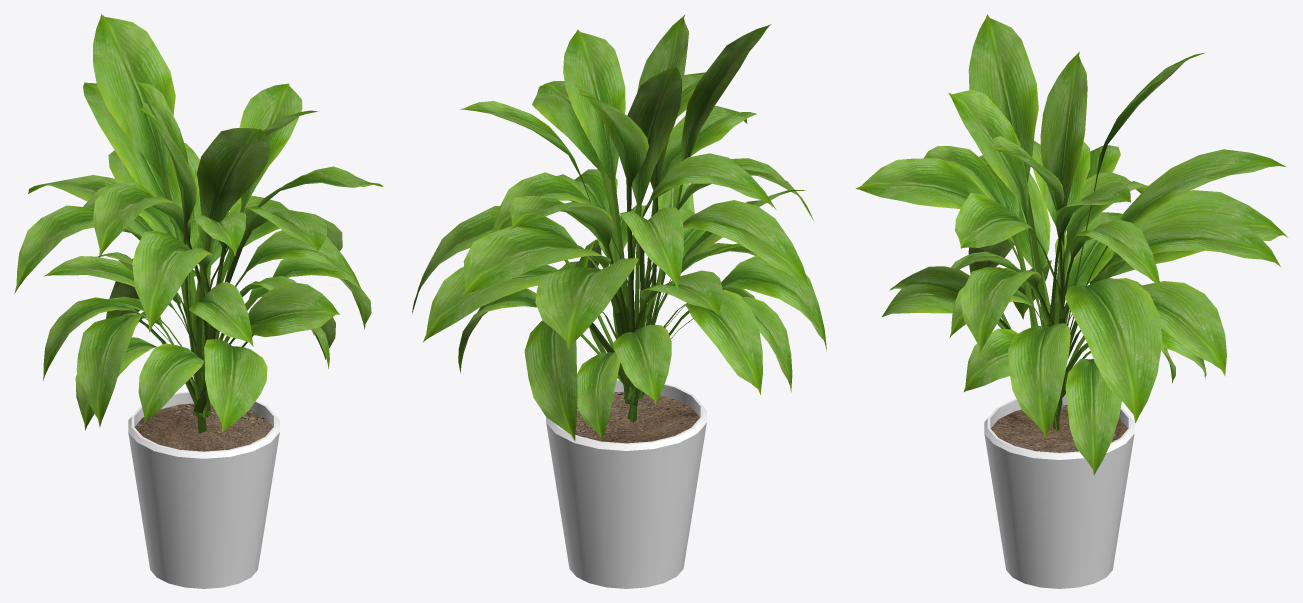
File: Plant 1.fbx
3 renders of one model, left to right at view 1: azimuth 30°, elevation 25°; view 2: azimuth 150°, elevation 25°; view 3: azimuth 270°, elevation 25°, orthographic. The views are drawn at different scales.
Visible parts, largest first — view 1: plant 1; view 2: plant 1; view 3: plant 1.
Boxes of the visible parts, box(x1,y1,x2,y2) form: plant 1: box(14, 14, 383, 588); plant 1: box(412, 14, 826, 588); plant 1: box(855, 14, 1288, 588).
Size of the model in its own units: 86.07 by 121 by 94.38.
Materials: 2 (2 with a texture image).
